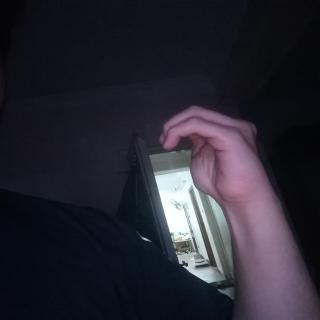HAA: (143, 96, 288, 216)
